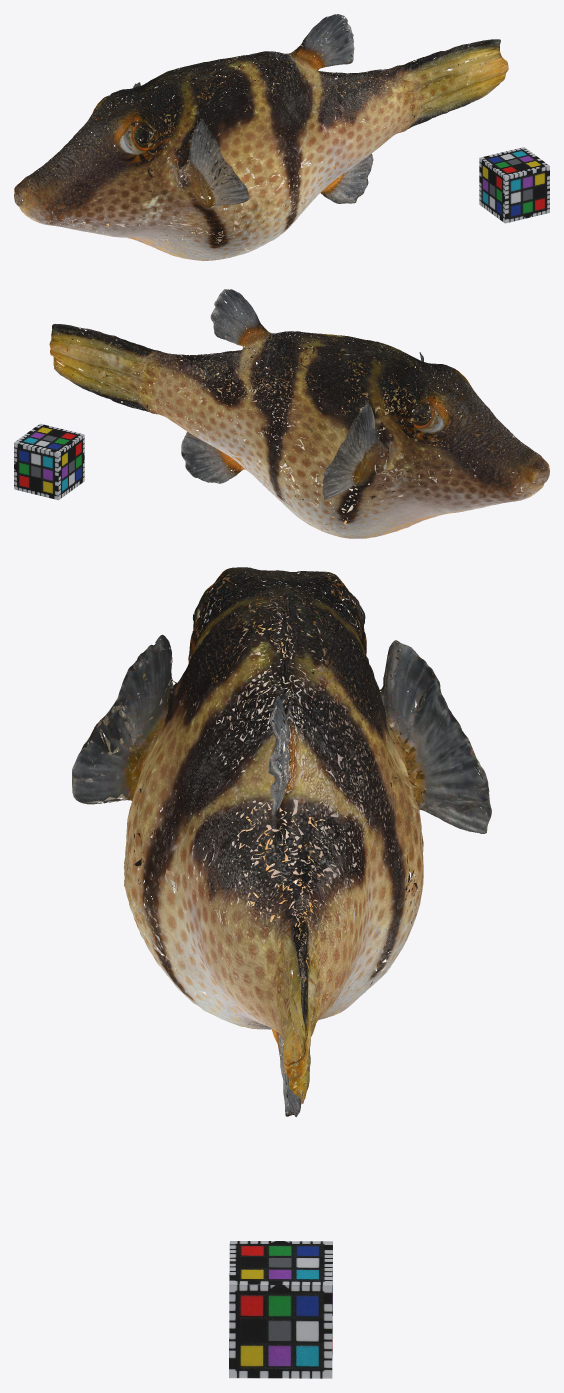
The model's file is scan_sharpnosepuff.glb.
3 views of the same model, one above another, from view 1: azimuth 30°, elevation 25°; view 2: azimuth 150°, elevation 25°; view 3: azimuth 270°, elevation 25° (orthographic). The views are drawn at different scales.
Parts seen in each view (by area): view 1: Object_6, Object_11, Object_4; view 2: Object_11, Object_6, Object_4; view 3: Object_6, Object_11, Object_4.
Part boxes in pixels (left/top/right/bottom): Object_6: left=14, top=14, right=508, bottom=260; Object_11: left=14, top=14, right=507, bottom=256; Object_4: left=479, top=147, right=549, bottom=223; Object_11: left=49, top=289, right=549, bottom=538; Object_6: left=50, top=289, right=548, bottom=536; Object_4: left=14, top=423, right=84, bottom=500; Object_6: left=72, top=568, right=490, bottom=1116; Object_11: left=72, top=567, right=491, bottom=1116; Object_4: left=229, top=1241, right=332, bottom=1378.
Bounding box in the file's own units: 9.09 × 4 × 3.18.
3 materials, 3 textured.
